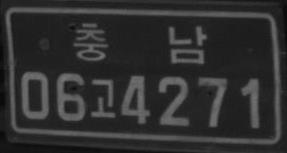0: (21, 70, 50, 120)
1: (238, 76, 267, 129)
2: (157, 74, 190, 127)
4: (120, 74, 150, 124)
6: (55, 71, 86, 121)
7: (196, 75, 229, 128)
고: (89, 77, 116, 118)
충남_D: (73, 21, 208, 65)
